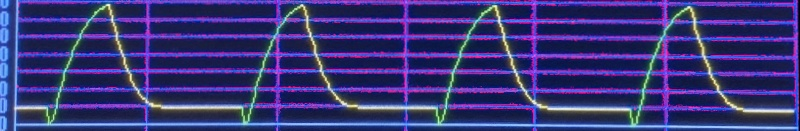leakage: (4, 0, 790, 131)
